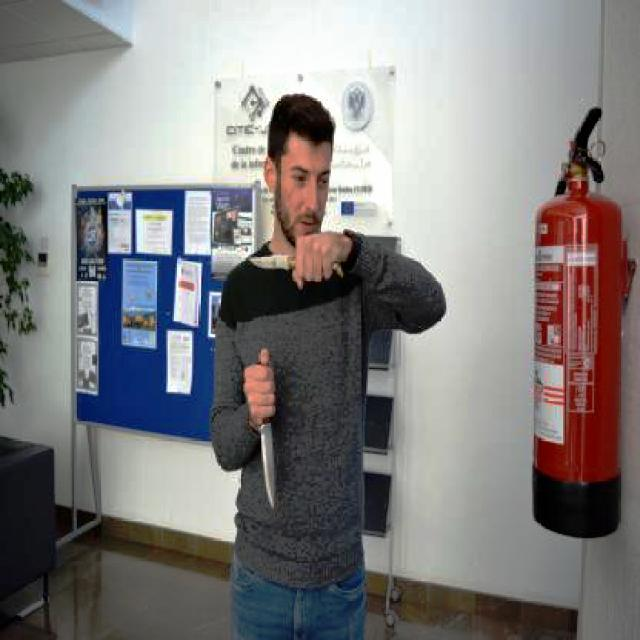Knife: (238, 250, 344, 287), (256, 423, 288, 511)
